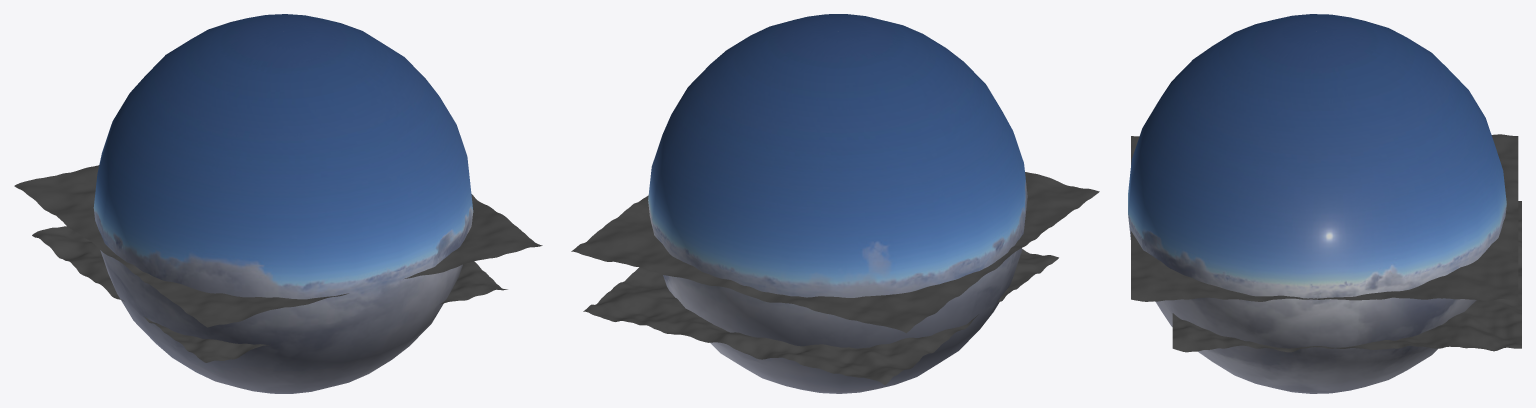
Rendered from Montaña.fbx.
3 renders of one model, left to right at view 1: azimuth 30°, elevation 25°; view 2: azimuth 150°, elevation 25°; view 3: azimuth 270°, elevation 25°, orthographic.
Parts seen in each view (by area): view 1: Sphere, Plano nuves, Plano nuves.001; view 2: Sphere, Plano nuves, Plano nuves.001; view 3: Sphere, Plano nuves, Plano nuves.001.
Part boxes in pixels (x1=…): Sphere: x1=93, y1=14, x2=473, y2=393; Plano nuves: x1=14, y1=165, x2=542, y2=327; Plano nuves.001: x1=32, y1=226, x2=507, y2=362; Sphere: x1=648, y1=14, x2=1027, y2=393; Plano nuves: x1=571, y1=172, x2=1099, y2=333; Plano nuves.001: x1=583, y1=249, x2=1058, y2=384; Sphere: x1=1128, y1=14, x2=1506, y2=393; Plano nuves: x1=1131, y1=134, x2=1518, y2=301; Plano nuves.001: x1=1172, y1=201, x2=1521, y2=352.
Bounding box in the file's own units: 14.15 × 13.91 × 14.4.
3 materials, 1 textured.
